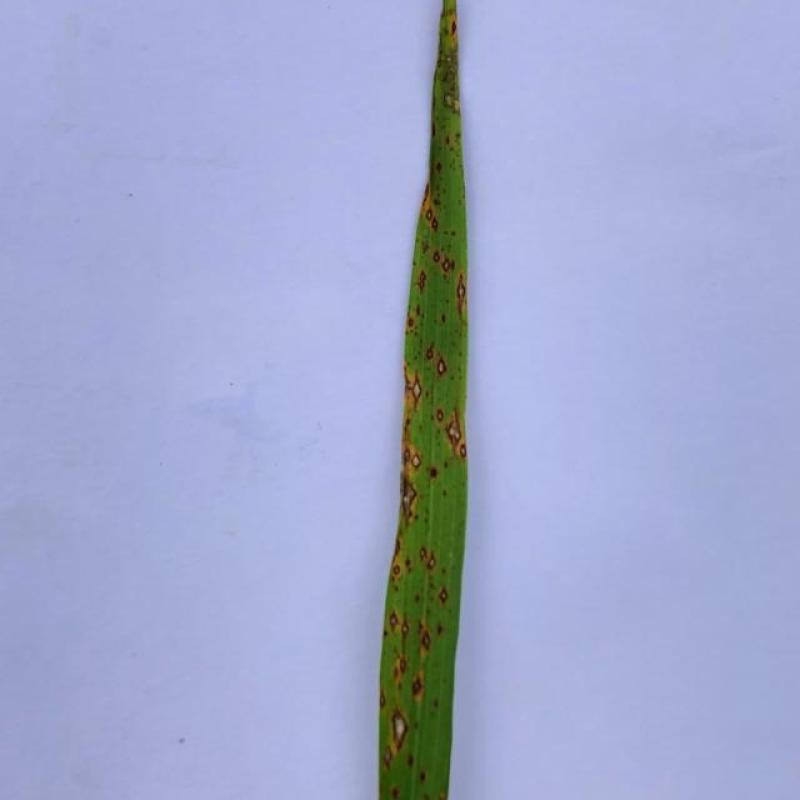Leaf_Blast: (377, 605, 451, 717), (379, 443, 450, 518), (440, 400, 475, 455), (382, 704, 412, 755), (446, 264, 474, 318), (397, 362, 425, 404), (415, 535, 441, 574), (428, 345, 454, 381), (418, 191, 443, 226), (435, 243, 461, 274)
